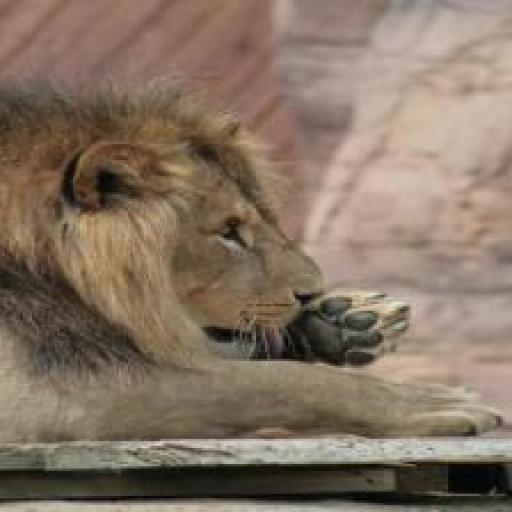lion: (2, 80, 504, 454)
